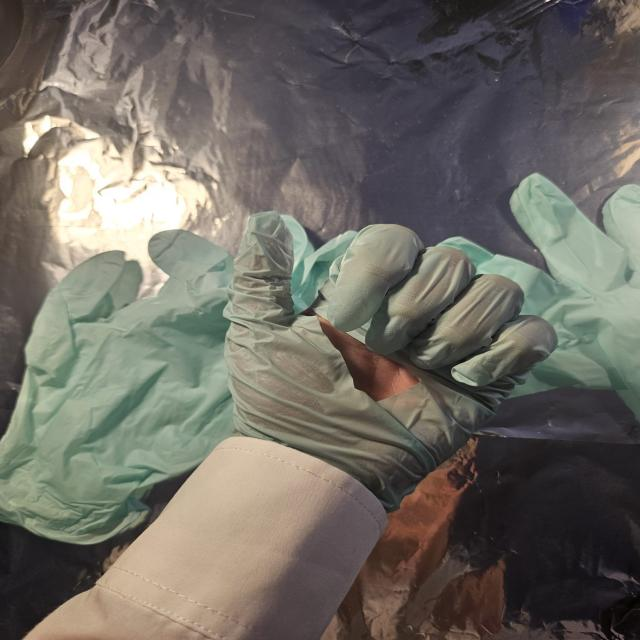gloves_damaged: (216, 208, 560, 506)
